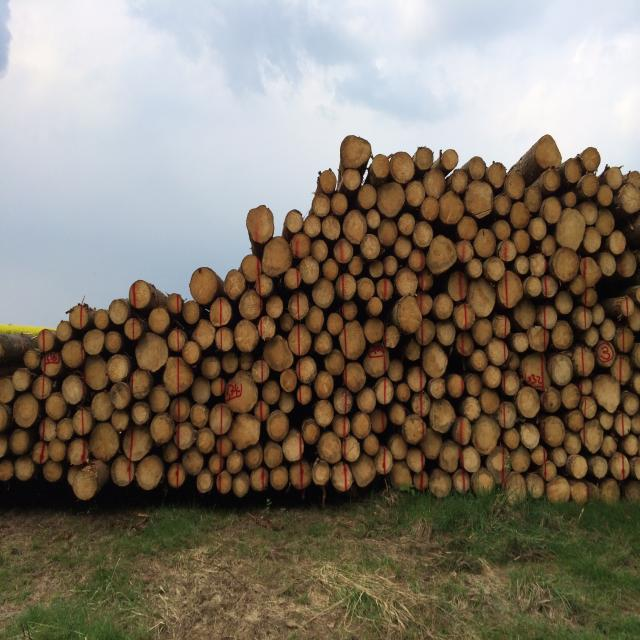wood-log: (226, 371, 261, 413), (555, 206, 586, 250), (135, 333, 170, 371), (162, 357, 196, 396), (262, 238, 294, 279), (69, 461, 103, 499), (263, 334, 297, 372), (88, 422, 120, 462), (426, 236, 458, 275), (123, 425, 154, 462), (466, 180, 496, 218), (395, 296, 424, 335), (469, 279, 498, 317), (246, 206, 274, 245), (341, 134, 372, 169), (474, 414, 501, 454), (231, 413, 261, 449), (341, 321, 368, 361), (191, 268, 220, 305), (592, 374, 620, 412), (520, 353, 548, 390), (136, 454, 164, 490), (552, 246, 580, 282), (422, 341, 449, 378), (378, 184, 407, 218), (14, 393, 42, 428), (534, 136, 562, 171), (618, 171, 640, 215), (498, 269, 523, 307), (431, 400, 458, 435), (84, 356, 110, 391), (548, 351, 574, 386), (343, 208, 368, 244), (572, 259, 600, 291), (257, 382, 281, 419), (439, 191, 465, 225), (351, 452, 376, 487), (150, 412, 177, 444), (466, 218, 493, 250), (234, 319, 260, 352), (317, 431, 342, 465), (540, 414, 565, 448), (514, 299, 540, 331), (363, 346, 389, 378), (390, 152, 414, 186), (583, 419, 606, 454), (210, 403, 235, 435), (0, 377, 15, 430), (448, 268, 472, 301), (516, 388, 540, 420), (472, 464, 496, 496), (574, 343, 596, 377), (419, 428, 443, 459), (268, 410, 292, 441), (239, 288, 262, 320), (225, 268, 248, 300), (348, 221, 373, 250), (130, 368, 154, 398), (474, 228, 498, 258), (430, 469, 454, 499), (62, 374, 86, 404), (343, 364, 367, 394), (290, 326, 314, 356), (312, 277, 335, 308), (423, 165, 446, 196), (92, 391, 115, 422), (440, 440, 462, 472), (112, 454, 134, 486), (546, 476, 571, 504), (181, 447, 205, 476), (209, 296, 232, 326), (130, 278, 153, 308), (552, 321, 574, 352), (390, 460, 412, 491), (145, 396, 171, 422), (148, 385, 173, 412), (46, 393, 70, 421), (394, 268, 418, 296), (325, 348, 349, 376), (596, 478, 620, 506), (62, 339, 85, 368), (283, 429, 303, 462), (149, 306, 172, 334), (11, 427, 34, 455), (288, 291, 311, 319), (488, 446, 508, 478), (72, 406, 92, 438), (602, 165, 618, 205), (404, 414, 426, 443), (454, 301, 476, 330), (528, 324, 549, 354), (194, 321, 217, 348), (189, 376, 212, 403), (617, 250, 640, 277), (108, 353, 130, 381), (68, 302, 90, 330), (413, 220, 435, 248), (502, 370, 524, 398), (472, 319, 494, 347), (364, 317, 386, 345), (612, 355, 634, 383), (359, 232, 380, 261), (337, 271, 358, 300), (378, 217, 399, 246), (487, 337, 508, 366), (289, 230, 310, 259), (176, 422, 196, 452), (498, 182, 518, 212), (486, 255, 508, 282), (84, 328, 106, 355), (334, 237, 356, 264), (240, 255, 262, 282), (407, 365, 429, 392), (314, 371, 335, 399), (332, 388, 353, 416), (507, 170, 527, 199), (596, 340, 616, 369), (510, 446, 532, 472), (480, 388, 502, 414), (580, 148, 602, 174), (616, 328, 638, 354), (511, 202, 532, 229), (109, 299, 130, 326), (110, 382, 131, 409), (488, 161, 508, 189), (301, 256, 321, 284), (373, 155, 393, 183), (544, 197, 564, 225), (496, 402, 516, 430), (416, 319, 436, 347), (435, 292, 455, 320), (298, 355, 318, 383), (584, 256, 602, 287), (583, 228, 604, 254), (554, 290, 575, 316), (355, 386, 376, 412), (581, 173, 602, 199), (454, 333, 475, 359), (357, 184, 377, 211), (520, 423, 540, 450), (306, 307, 326, 334), (314, 400, 334, 427), (564, 159, 584, 186), (525, 183, 543, 213), (407, 178, 426, 206), (541, 386, 560, 414), (513, 230, 532, 258), (457, 214, 478, 239), (438, 323, 459, 348), (183, 310, 212, 328), (462, 446, 482, 472), (42, 350, 62, 376), (562, 383, 582, 409), (32, 374, 52, 400), (595, 208, 615, 234), (468, 156, 488, 182), (352, 412, 371, 439), (311, 191, 330, 218), (376, 378, 395, 405), (342, 168, 363, 192), (371, 407, 389, 435), (459, 396, 480, 420), (388, 435, 408, 460), (388, 402, 408, 427), (336, 461, 352, 492), (322, 215, 341, 241), (198, 429, 217, 455), (264, 442, 283, 468), (454, 416, 471, 445), (314, 459, 332, 486), (167, 326, 185, 353), (132, 403, 153, 426), (568, 454, 588, 478), (450, 168, 470, 192), (314, 332, 334, 356), (542, 169, 562, 193), (12, 367, 32, 391), (612, 449, 628, 479), (266, 294, 286, 318), (420, 198, 440, 222), (262, 379, 282, 403), (404, 338, 424, 362), (570, 306, 590, 330), (345, 377, 369, 397), (412, 393, 432, 417), (344, 436, 361, 464), (69, 437, 86, 465), (623, 479, 640, 507), (181, 300, 200, 325), (271, 466, 290, 491), (279, 369, 298, 394), (408, 249, 427, 274), (448, 372, 466, 398), (43, 459, 63, 482), (221, 351, 241, 374), (202, 355, 222, 378), (17, 456, 36, 480), (416, 148, 435, 172), (182, 340, 201, 364), (484, 364, 503, 388), (302, 419, 321, 443), (528, 216, 547, 240), (498, 238, 517, 262), (570, 480, 588, 505), (291, 460, 306, 490), (112, 410, 132, 432), (586, 413, 608, 433), (510, 332, 530, 354), (579, 200, 599, 222), (347, 445, 370, 464), (260, 314, 278, 338), (320, 169, 338, 193), (394, 236, 412, 260), (197, 468, 215, 492), (234, 470, 250, 497), (494, 192, 512, 216), (608, 231, 626, 255), (328, 312, 346, 336), (406, 448, 424, 472), (25, 346, 43, 370), (623, 390, 640, 415), (565, 411, 585, 432), (0, 375, 15, 403), (251, 402, 271, 423), (469, 348, 488, 370), (169, 464, 185, 490), (527, 472, 543, 498), (40, 416, 56, 442), (397, 211, 415, 234), (384, 324, 402, 347), (51, 438, 68, 462), (251, 466, 268, 490), (591, 454, 608, 478), (493, 314, 510, 338), (613, 412, 630, 436), (41, 328, 58, 352), (246, 446, 262, 471), (358, 277, 374, 302), (599, 252, 615, 277), (321, 259, 339, 281), (257, 274, 275, 296), (125, 317, 143, 339), (56, 319, 74, 341), (540, 275, 558, 297), (399, 240, 417, 262), (377, 446, 391, 474), (333, 192, 350, 215), (567, 275, 584, 298), (306, 212, 322, 236), (492, 218, 511, 238), (465, 258, 483, 279), (443, 150, 460, 172), (59, 418, 76, 440), (283, 269, 300, 291), (525, 275, 542, 297), (628, 213, 640, 244), (384, 438, 396, 469), (334, 415, 350, 438), (624, 435, 640, 458), (607, 165, 623, 188), (218, 327, 232, 353), (278, 393, 297, 412), (164, 442, 182, 462), (597, 186, 614, 207), (312, 238, 329, 259), (465, 374, 482, 395), (287, 287, 304, 308), (504, 427, 520, 449), (94, 308, 110, 330), (601, 435, 617, 457), (32, 442, 48, 464), (286, 210, 302, 232), (367, 260, 385, 279), (348, 258, 365, 278), (342, 301, 359, 321), (455, 468, 469, 492), (572, 163, 586, 187), (541, 235, 557, 256), (107, 331, 122, 353), (228, 450, 244, 470), (429, 378, 445, 398), (584, 327, 600, 347), (362, 436, 378, 456), (280, 314, 296, 334), (515, 258, 531, 278), (531, 444, 546, 465), (167, 293, 182, 314), (218, 470, 231, 494), (628, 306, 640, 332), (560, 189, 578, 206), (564, 434, 580, 453), (0, 458, 13, 481), (584, 398, 598, 419), (602, 317, 616, 338), (298, 386, 314, 404), (368, 299, 384, 317), (218, 437, 233, 456), (366, 209, 380, 229), (553, 446, 567, 466), (599, 411, 613, 431), (210, 451, 223, 472), (415, 470, 428, 491), (319, 255, 336, 270), (0, 404, 9, 432), (542, 461, 556, 478), (336, 272, 356, 283), (120, 314, 133, 330), (534, 231, 550, 244), (632, 455, 640, 480), (632, 343, 640, 368), (296, 387, 307, 405), (0, 435, 8, 458), (632, 372, 640, 394), (633, 414, 640, 434)
